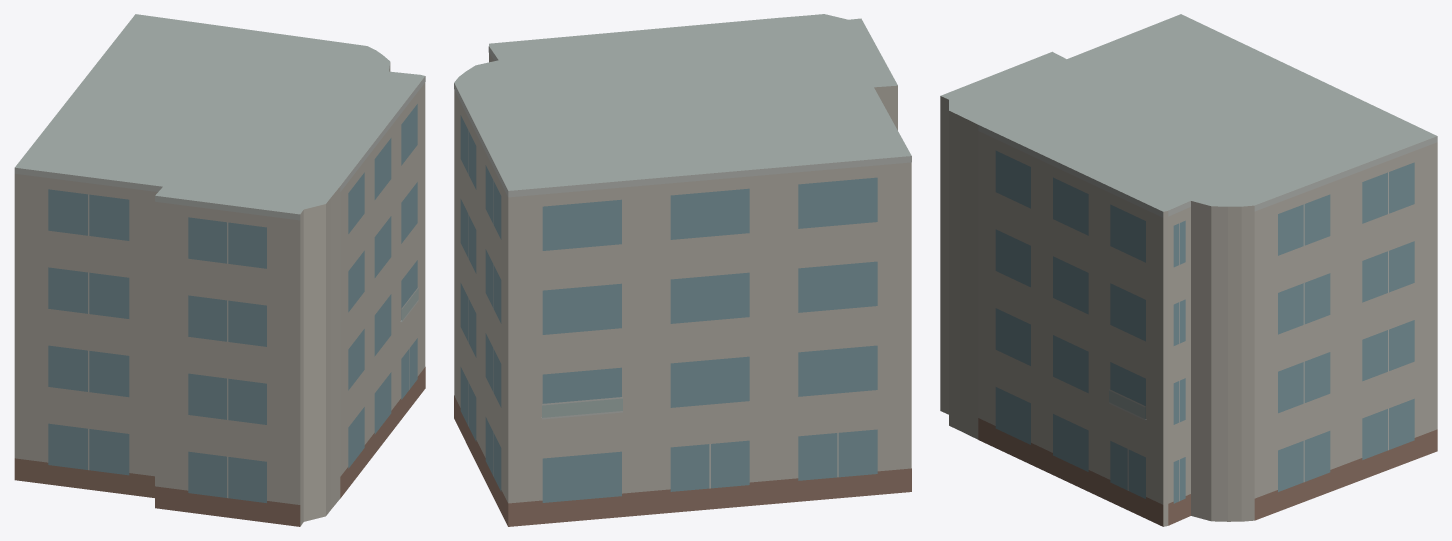
File: survey-upis-32773247.glb
3 views of the same model, side by side, from view 1: azimuth 30°, elevation 25°; view 2: azimuth 150°, elevation 25°; view 3: azimuth 270°, elevation 25° (orthographic). The views are drawn at different scales.
Visible parts, largest first — view 1: survey-upis-32773247.tmp; view 2: survey-upis-32773247.tmp; view 3: survey-upis-32773247.tmp.
Part boxes in pixels (<box>): survey-upis-32773247.tmp: <box>14,14,425,526</box>; survey-upis-32773247.tmp: <box>454,14,911,526</box>; survey-upis-32773247.tmp: <box>940,14,1437,526</box>.
Size of the model in its own units: 17.11 by 12.7 by 18.17.
